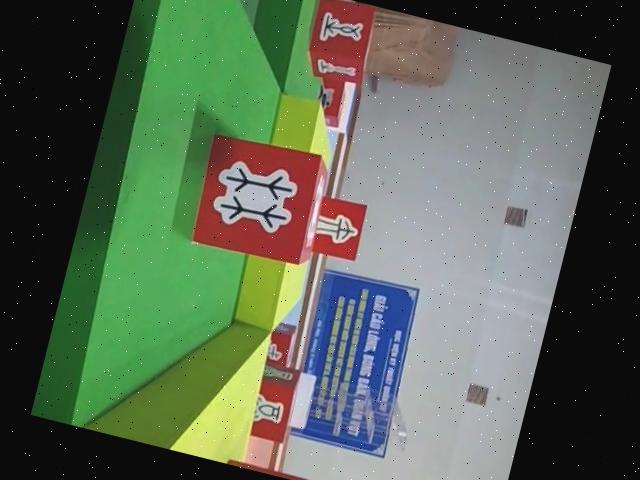R1: (306, 75, 352, 132)
R2 Fake: (303, 192, 371, 265)
R2 Real: (185, 127, 336, 273), (296, 0, 382, 90), (240, 357, 305, 447)
